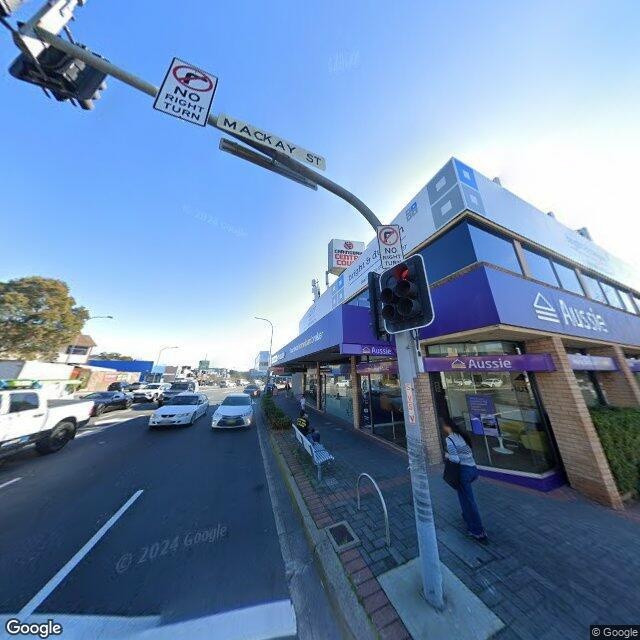steel-pole: (371, 219, 447, 613)
traffic-light: (8, 41, 115, 110), (369, 252, 436, 338)
